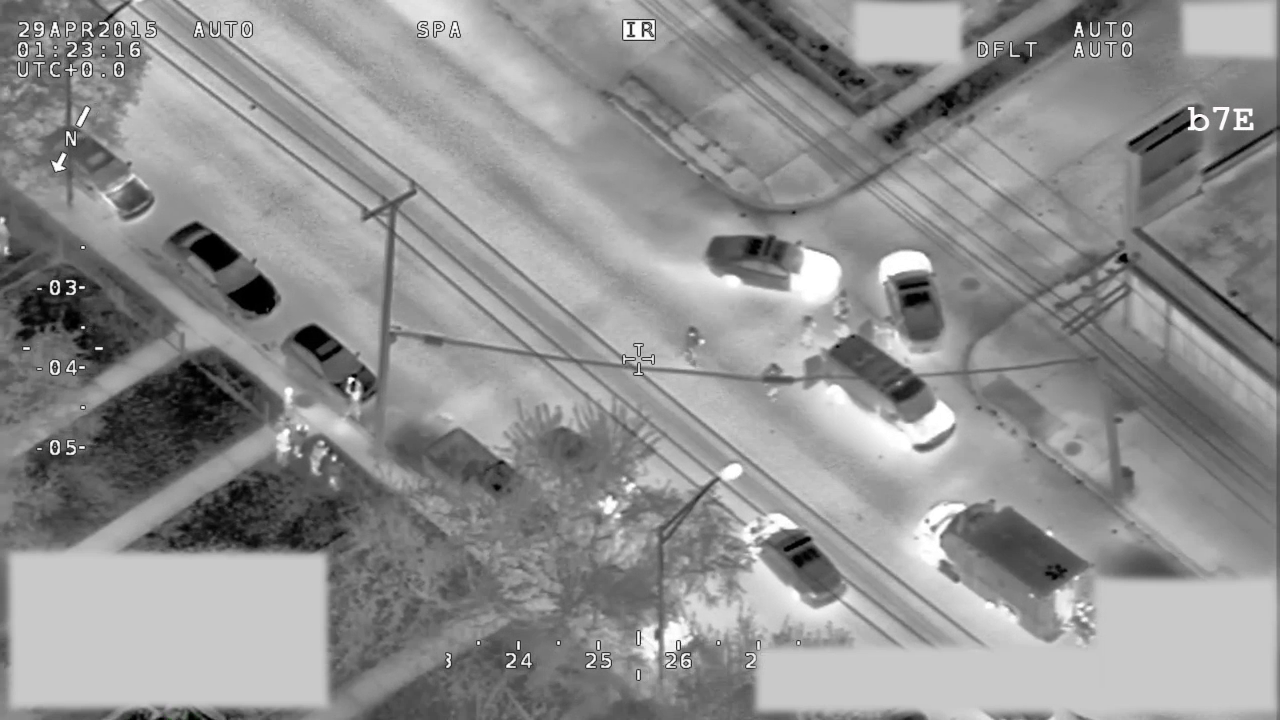vehicle: (913, 486, 1094, 642), (798, 316, 960, 456), (423, 421, 562, 551), (165, 215, 287, 324), (701, 228, 846, 309), (46, 119, 154, 224), (742, 512, 849, 608), (873, 238, 953, 362), (282, 319, 383, 409)
